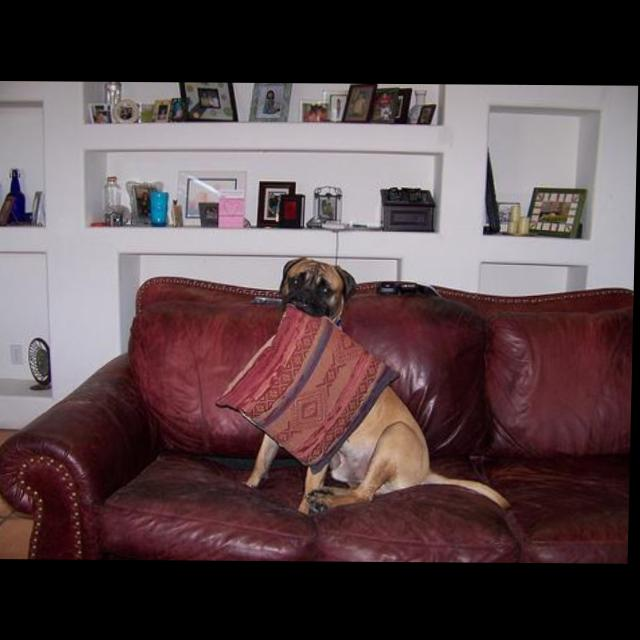bullmastiff: (247, 256, 518, 518)
